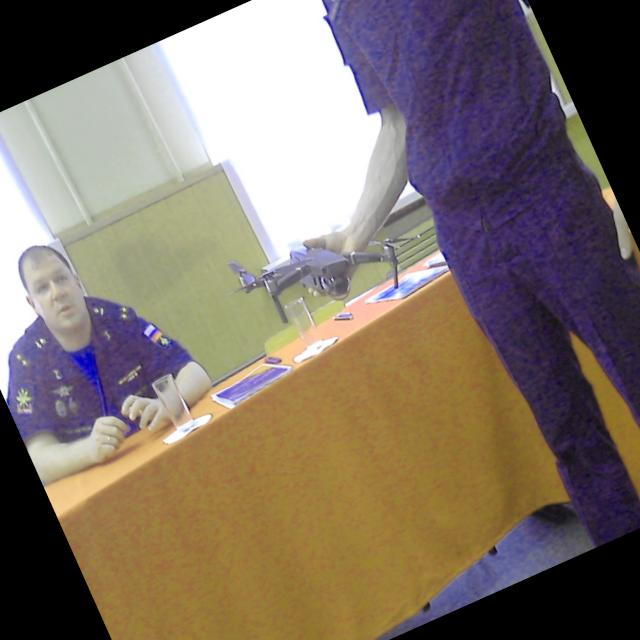drone: (210, 164, 450, 350)
